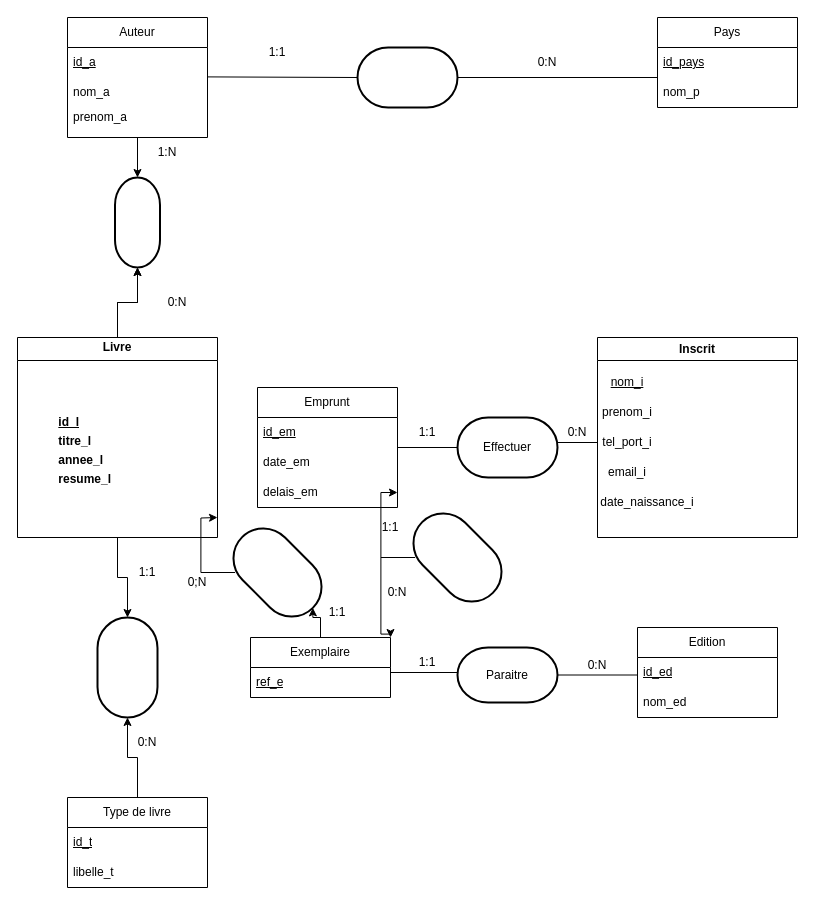
This 815x905 diagram has some shape labels left out. Here are the shapes that lost their labels. From the top down, the centre of each, then its label:
At [407,77]: "Etre né".
At [137,222]: "Rédiger".
At [277,572]: "correspondre".
At [457,557]: "concerner".
At [127,667]: "appartenir".
